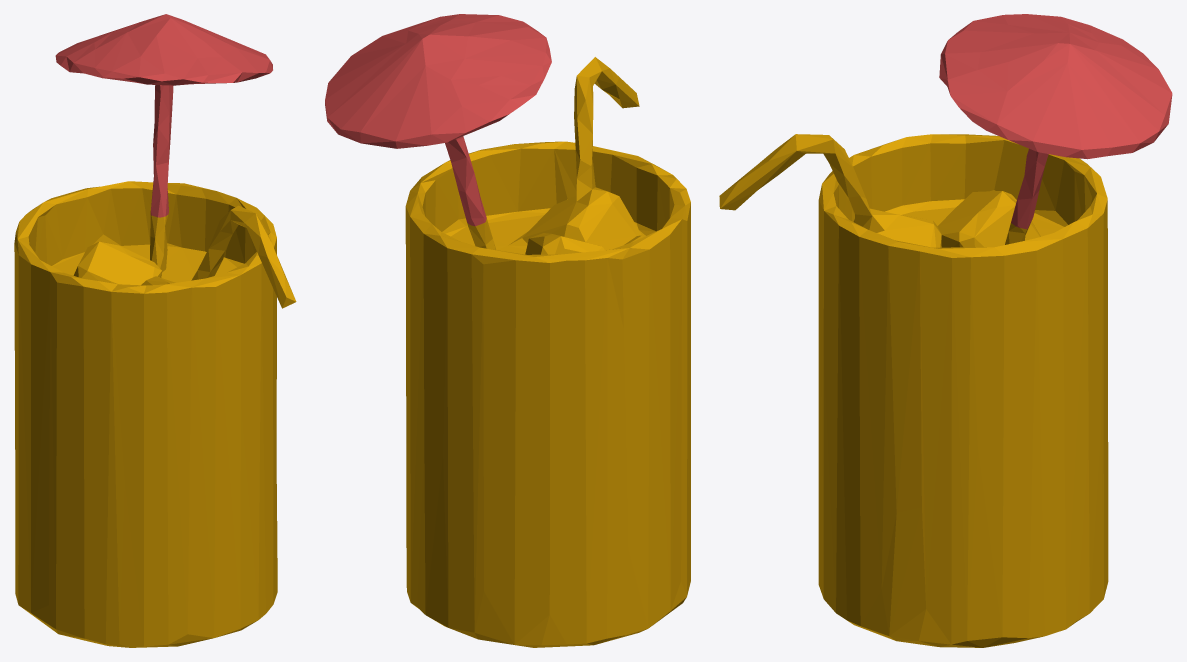
File: fractured_6_2pcs.glb
The picture shows the model from 3 angles, left to right: view 1: azimuth 30°, elevation 25°; view 2: azimuth 150°, elevation 25°; view 3: azimuth 270°, elevation 25°; orthographic projection. The views are drawn at different scales.
Parts seen in each view (by area): view 1: piece_0.obj, piece_1.obj; view 2: piece_0.obj, piece_1.obj; view 3: piece_0.obj, piece_1.obj.
Part boxes in pixels (box(x1,y1,x2,y2)): piece_0.obj: box(14, 181, 296, 647); piece_1.obj: box(55, 14, 272, 217); piece_0.obj: box(405, 57, 690, 647); piece_1.obj: box(325, 14, 551, 226); piece_0.obj: box(719, 134, 1108, 647); piece_1.obj: box(939, 14, 1172, 229).
Bounding box in the file's own units: 0.5255 × 1 × 0.7037.
